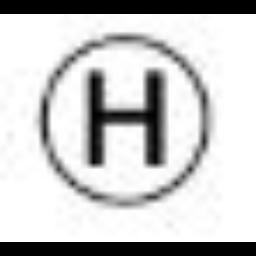h: (84, 60, 186, 182)
